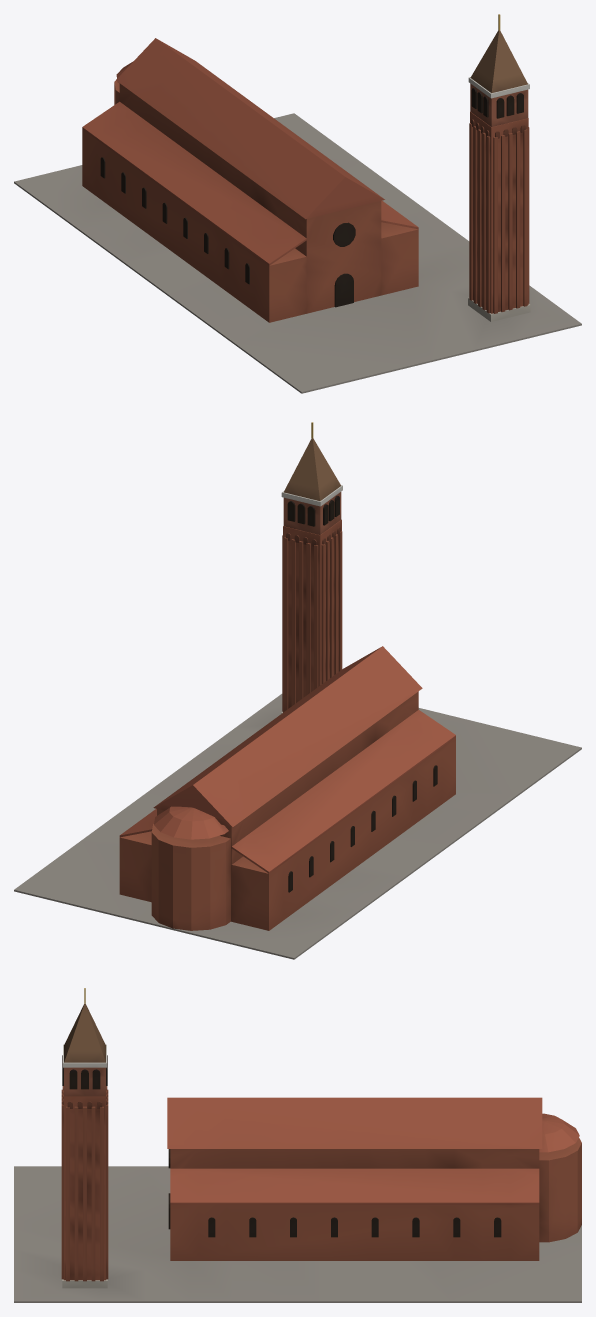
The model's file is san-pietro-old.glb.
The picture shows the model from 3 angles, top to bottom: view 1: azimuth 30°, elevation 25°; view 2: azimuth 150°, elevation 25°; view 3: azimuth 270°, elevation 25°; orthographic projection.
Visible parts, largest first — view 1: p0_walls, p1_roofs, p2_campanile; view 2: p0_walls, p1_roofs, p2_campanile; view 3: p0_walls, p1_roofs, p2_campanile.
Boxes of the visible parts, x1,y1,x2,y2 form: p0_walls: (14,80,581,393); p1_roofs: (82,38,418,265); p2_campanile: (468,14,530,321); p0_walls: (14,691,581,959); p1_roofs: (119,646,455,873); p2_campanile: (281,422,342,713); p0_walls: (14,1138,581,1302); p1_roofs: (167,1097,579,1204); p2_campanile: (61,988,108,1288).
Size of the model in its own units: 45 by 45.4 by 80.
